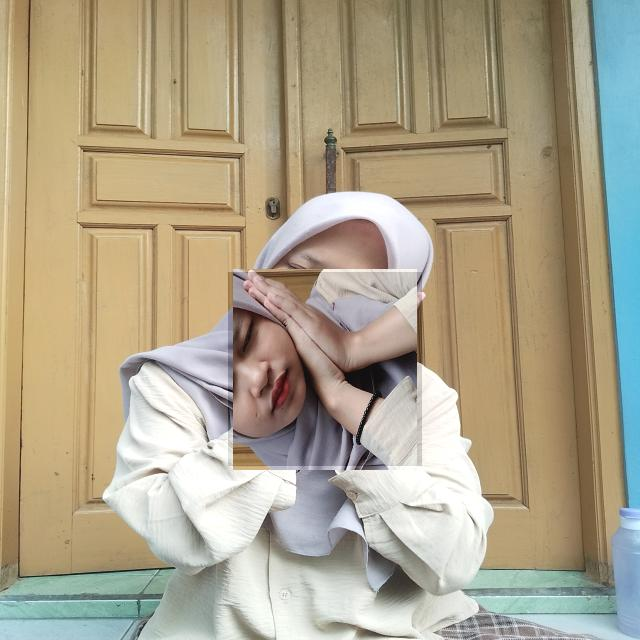tidur: (228, 272, 422, 466)
